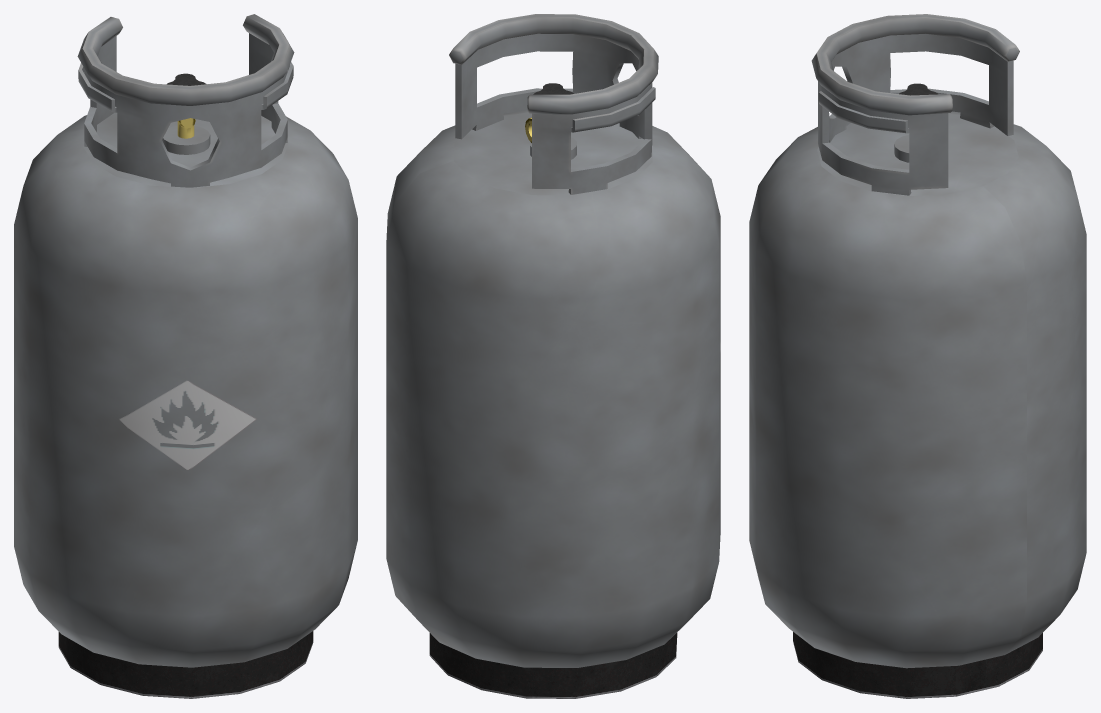
The model's file is PropaneTank.fbx.
3 views of the same model, side by side, from view 1: azimuth 30°, elevation 25°; view 2: azimuth 150°, elevation 25°; view 3: azimuth 270°, elevation 25° (orthographic).
Parts seen in each view (by area): view 1: PropaneTank; view 2: PropaneTank; view 3: PropaneTank.
Boxes of the visible parts, x1,y1,x2,y2 form: PropaneTank: (14,14,357,698); PropaneTank: (386,14,720,698); PropaneTank: (749,14,1086,698).
Size of the model in its own units: 0.4905 by 0.945 by 0.4905.
